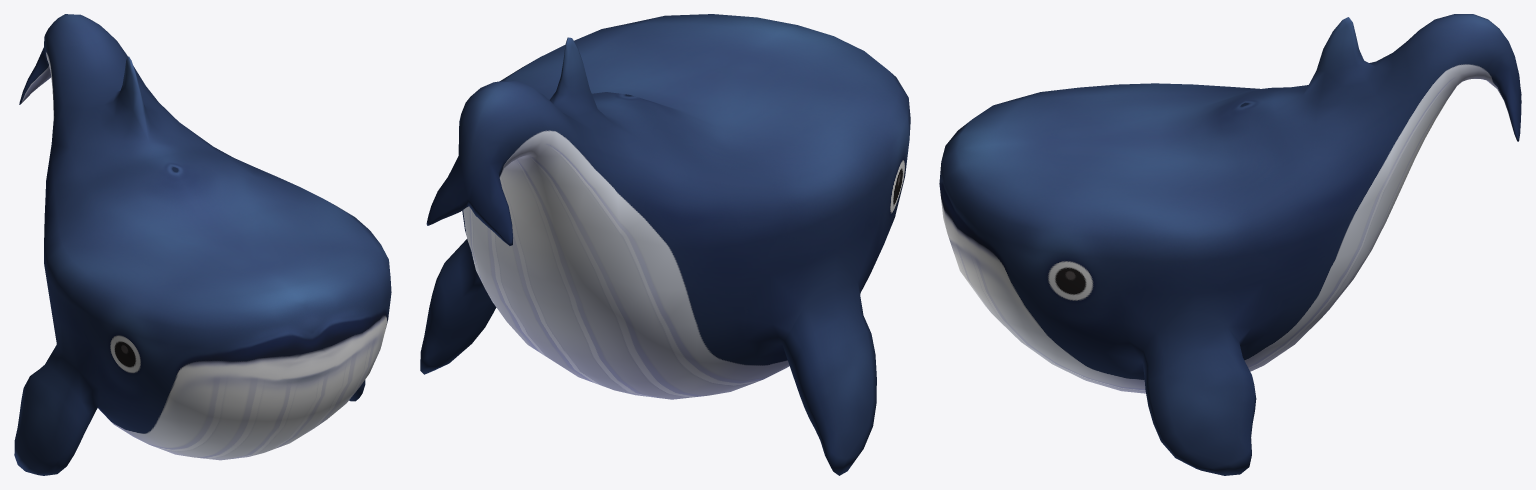
Rendered from CRT0110004.FBX.
3 renders of one model, left to right at view 1: azimuth 30°, elevation 25°; view 2: azimuth 150°, elevation 25°; view 3: azimuth 270°, elevation 25°, orthographic. The views are drawn at different scales.
Parts seen in each view (by area): view 1: smCRT0110004; view 2: smCRT0110004; view 3: smCRT0110004.
Boxes of the visible parts, <box> form: smCRT0110004: <box>14,14,391,475</box>; smCRT0110004: <box>420,14,910,475</box>; smCRT0110004: <box>939,14,1521,475</box>.
Bounding box in the file's own units: 0.2199 × 0.2199 × 0.3104.
1 material, 1 textured.
